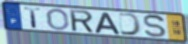A: (94, 11, 121, 35)
D: (118, 12, 144, 37)
O: (46, 7, 70, 32)
R: (68, 8, 96, 34)
S: (143, 14, 168, 39)
T: (23, 6, 43, 29)
